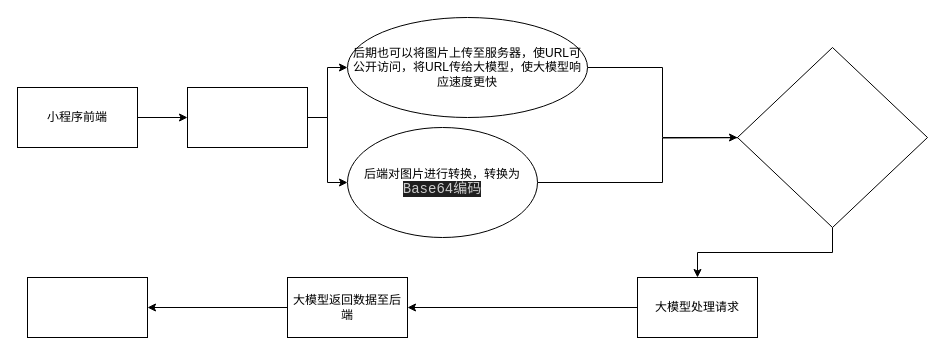
Some shapes in this 945 by 355 pixel diagram are drawn without their labels. Each missing label, with the box of its shape:
前端解析数据，并以MD格式呈现: (26, 276, 148, 338)
处理完成，昂图片和特定提示词 发送给大模型: (736, 46, 928, 228)
小程序后端（Node.js）: (186, 86, 308, 148)
